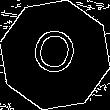O_S: (29, 26, 81, 84)
